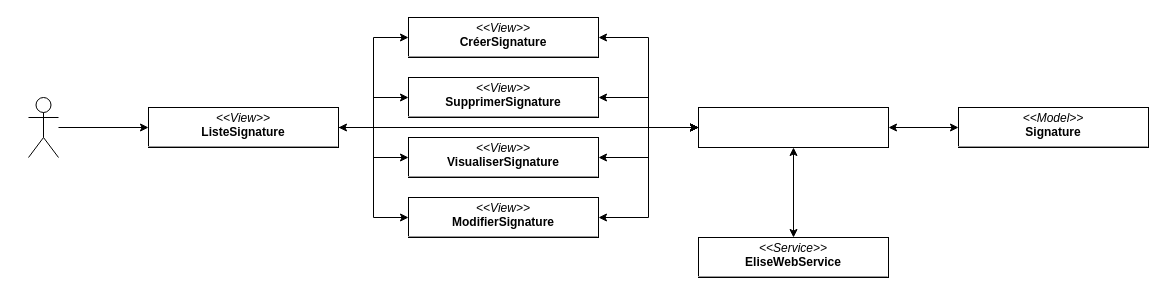
The diagram is 1166 pixels wide and 295 high, and some of its shapes have lost their labels. Here are the shapes that lost their labels. From the top down, the centre of each, then its label:
At point (43, 127): "Utilisateur".
At point (793, 127): "<<ViewModel>> ListeSignature".
